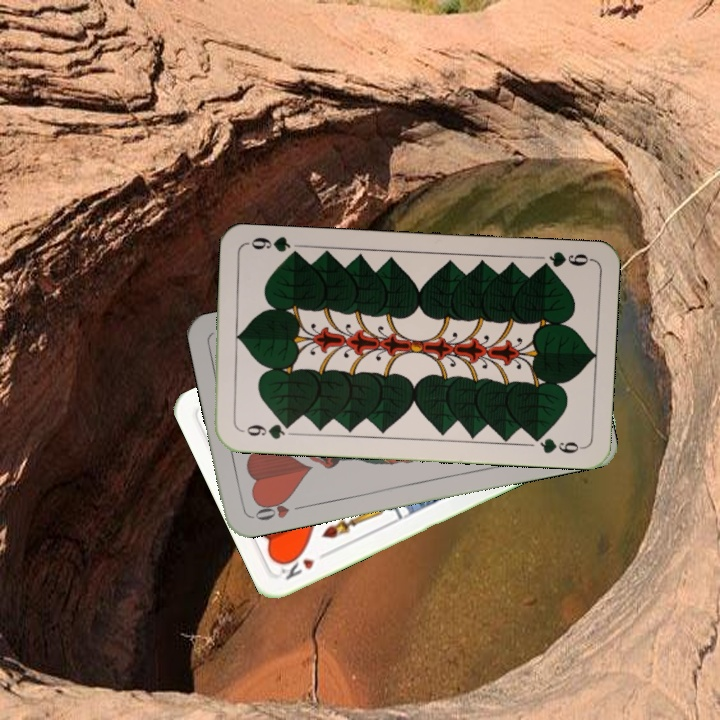G9: (534, 247, 594, 273), (236, 419, 295, 442)
HK: (275, 547, 333, 583)
HO: (249, 494, 307, 523)
